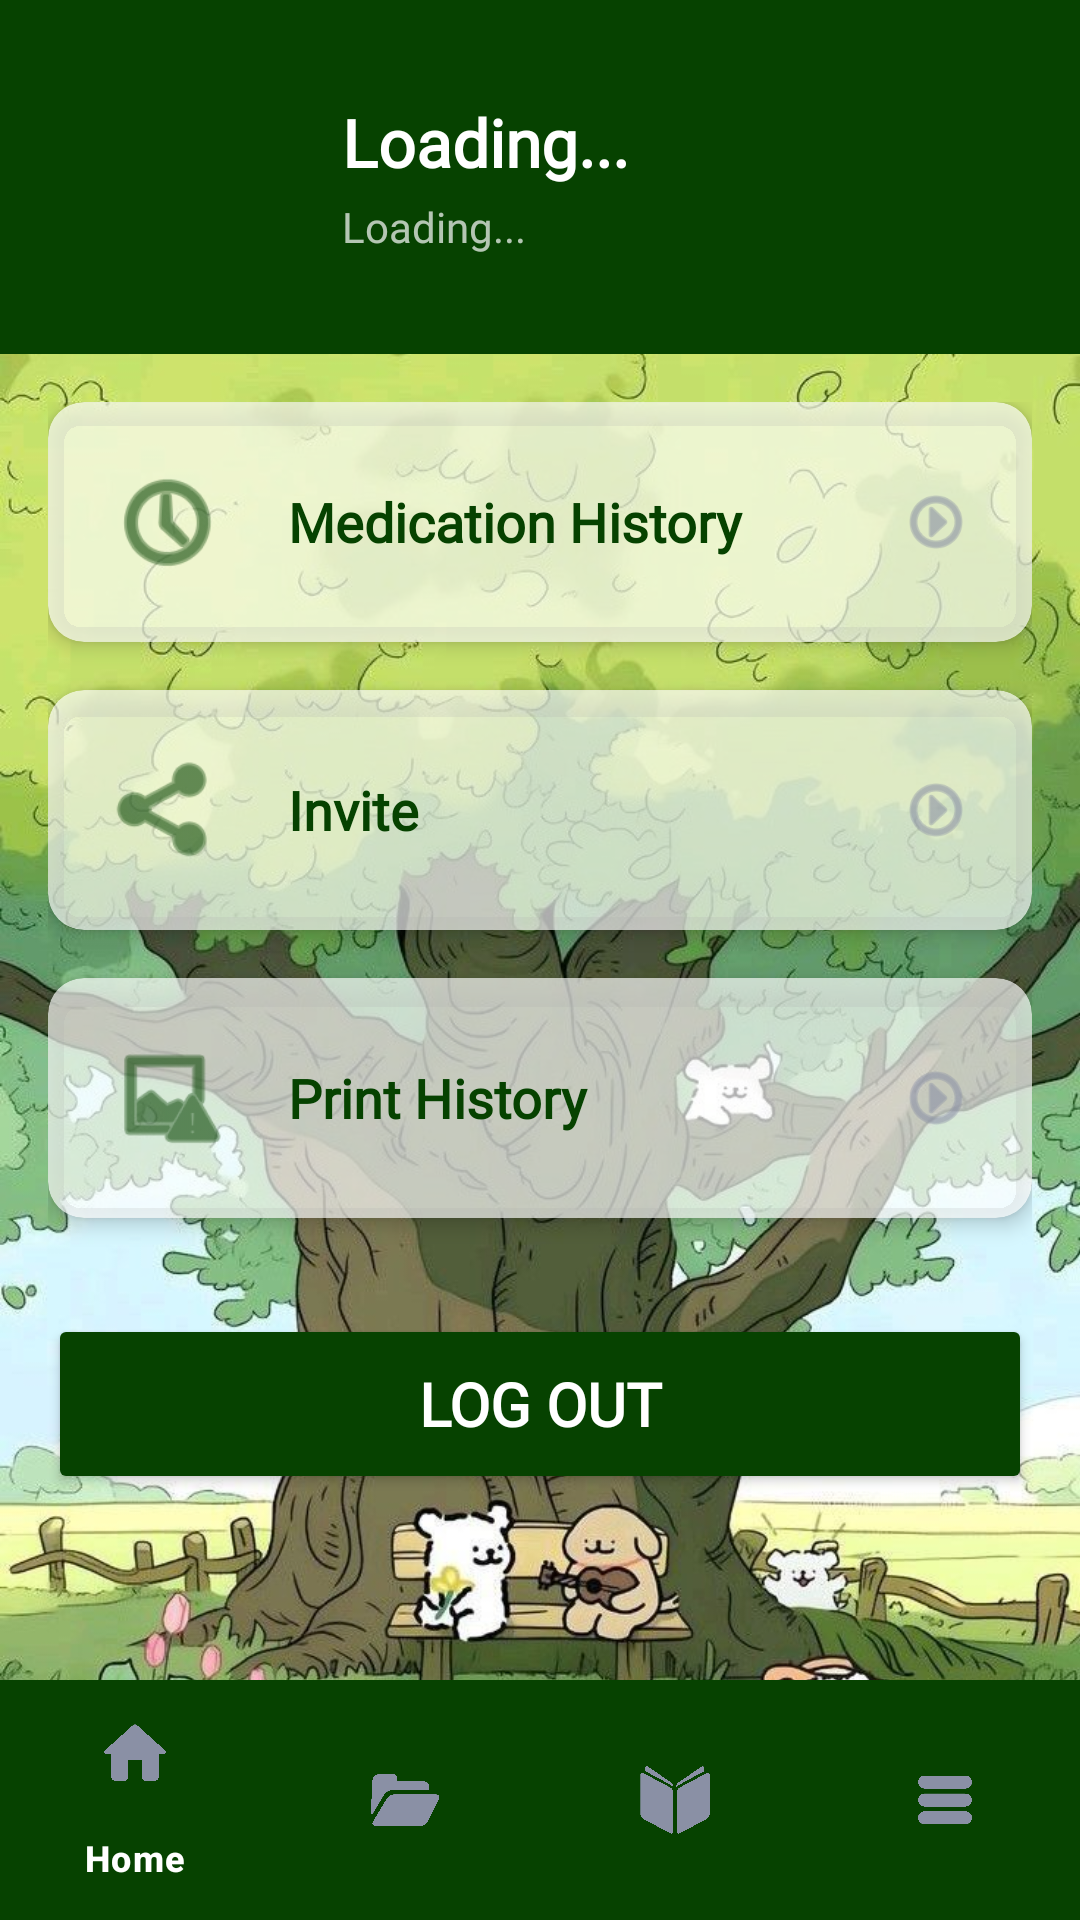

Icons on this 1080w x 1920h Android screen, each with the point to tap as (x,y):
Report Icon: (168,1098)
